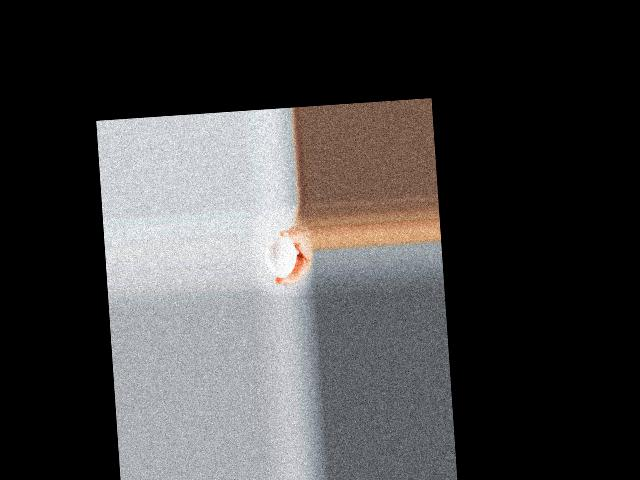egg: (264, 236, 298, 279)
